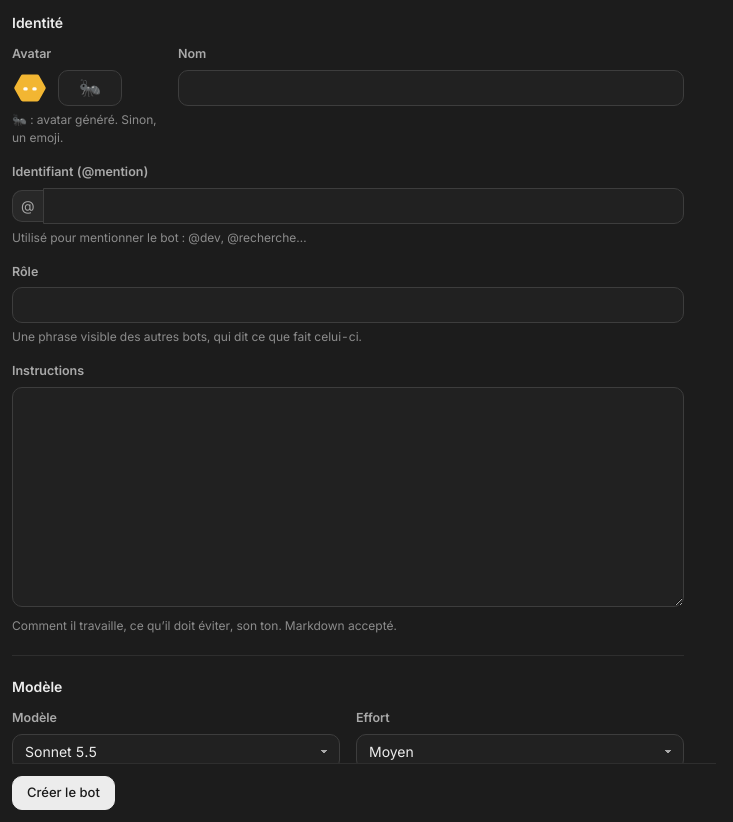
Test: BotForm validation › flags an empty identifier once a submit was attempted
The width and height of the screenshot is (733, 822).
Type "!!!" into the field labelled "Nom" at coordinates (431, 88), box x1=178 y1=70 x2=684 y2=106
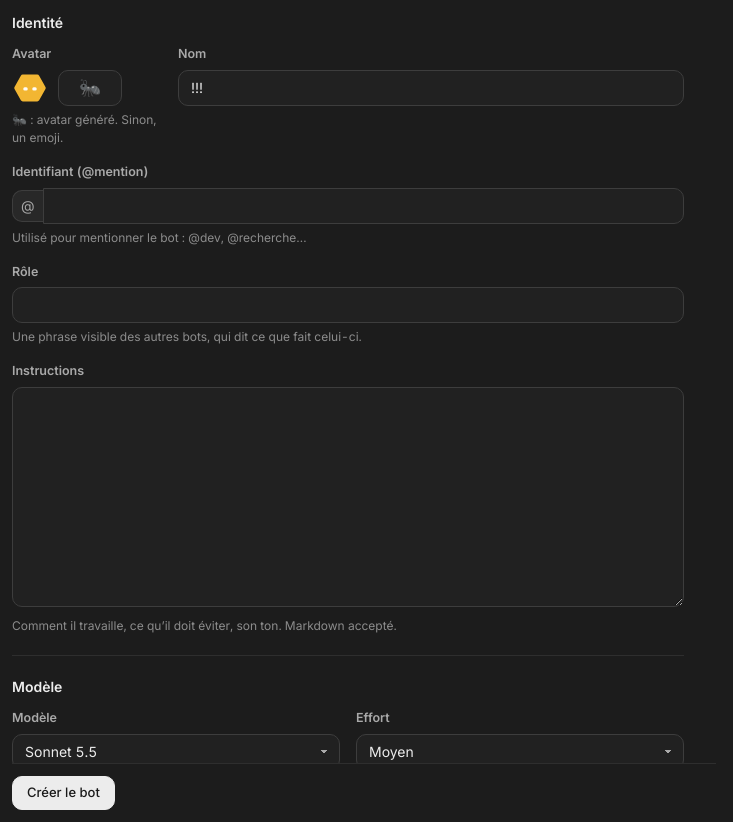
Type "Testeur" into the field labelled "Rôle" at coordinates (348, 305), box x1=12 y1=287 x2=684 y2=323
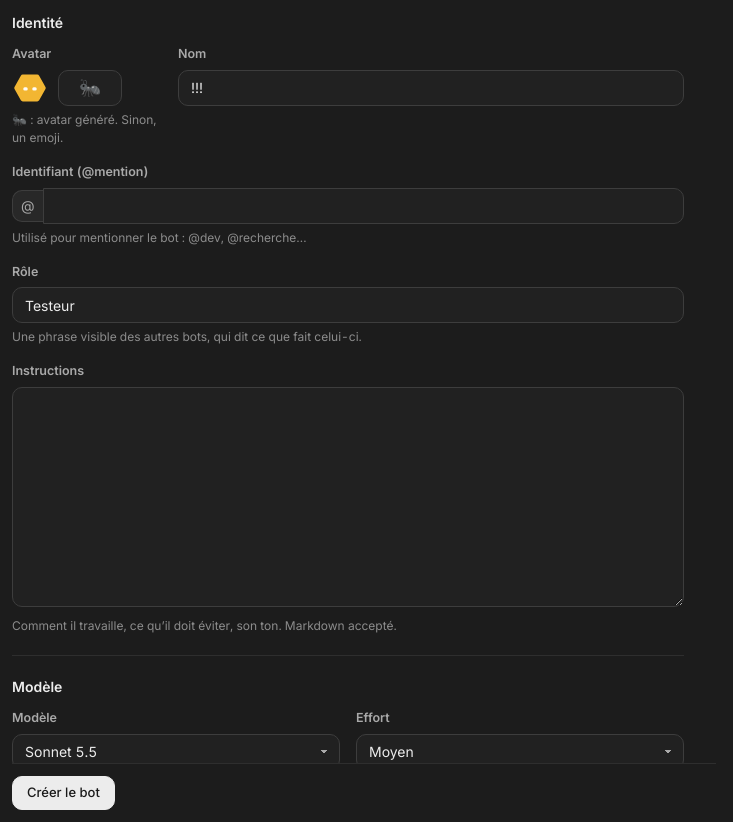
Check: the text "Lettres minuscules" is not shown
Click the button "Créer le bot" at coordinates (63, 793), box x1=12 y1=776 x2=115 y2=810
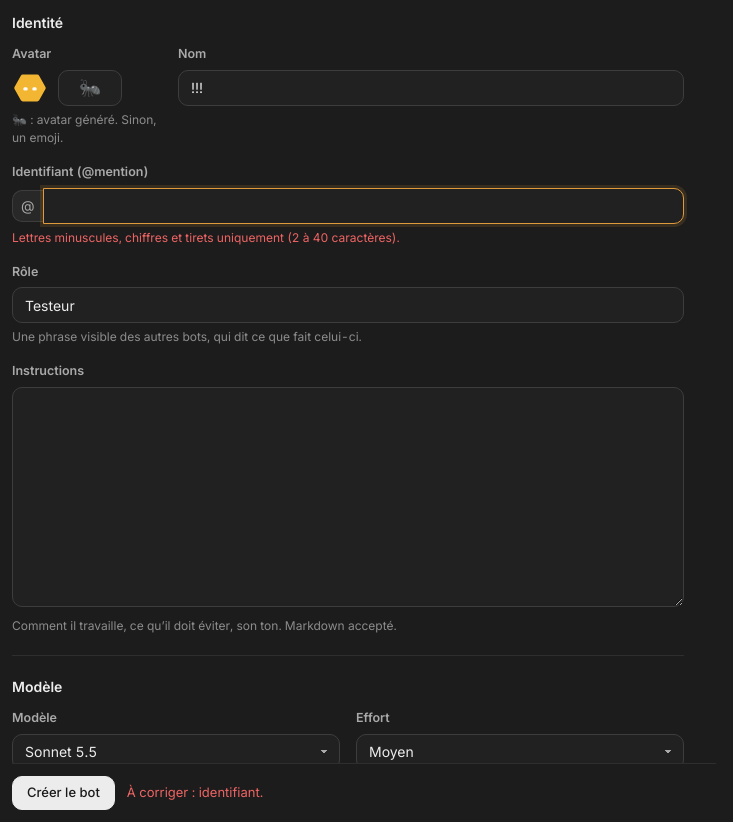
Check: the text "Lettres minuscules" is shown, box x1=12 y1=230 x2=400 y2=244
Check: the message reads "À corriger : identifiant.", box x1=127 y1=783 x2=263 y2=803
